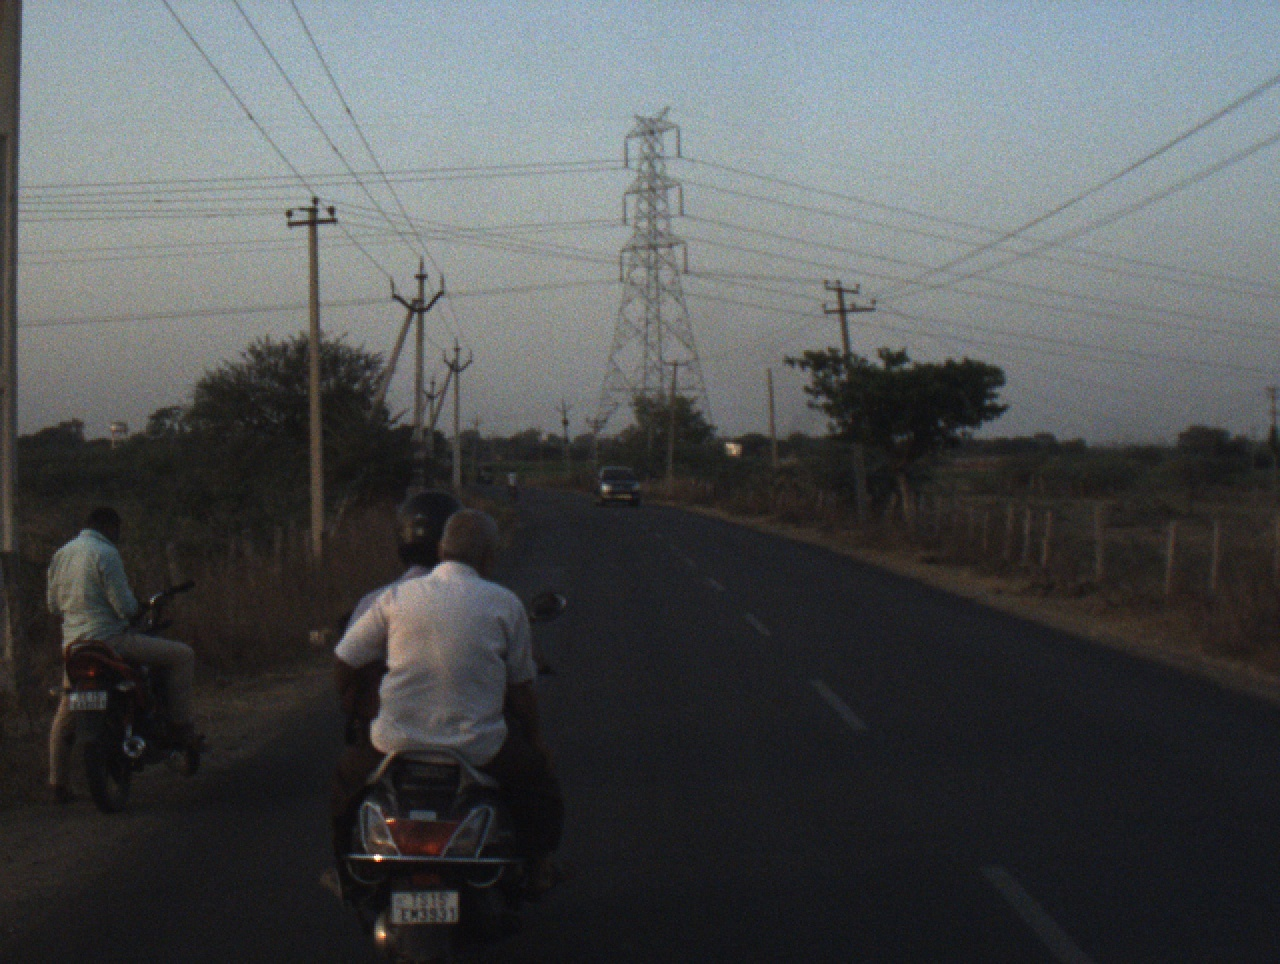autorickshaw: (473, 464, 494, 485)
bicycle: (505, 486, 519, 508)
car: (595, 460, 643, 507)
motorcycle: (307, 588, 593, 944), (40, 575, 208, 807)
rider: (319, 505, 568, 922), (43, 503, 199, 807), (334, 491, 460, 656), (506, 469, 520, 497)
